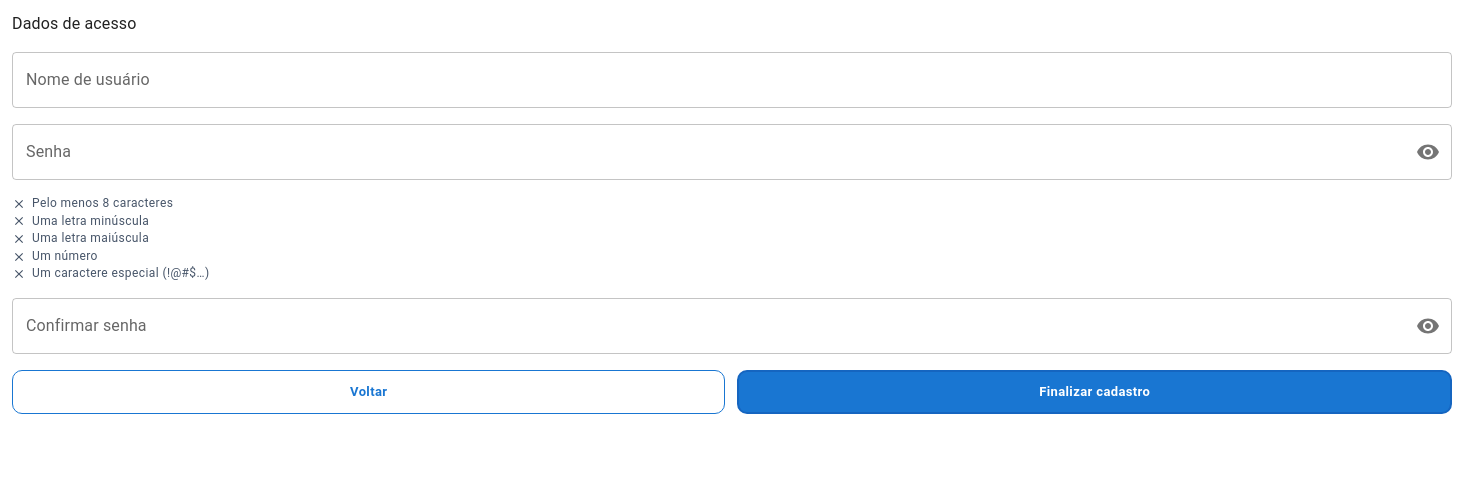
Test: AccessCredentialsStep component › displays validation errors when submitting empty credentials
Click the button "Finalizar cadastro": {"x": 1095, "y": 392} left=738, top=370, right=1452, bottom=414
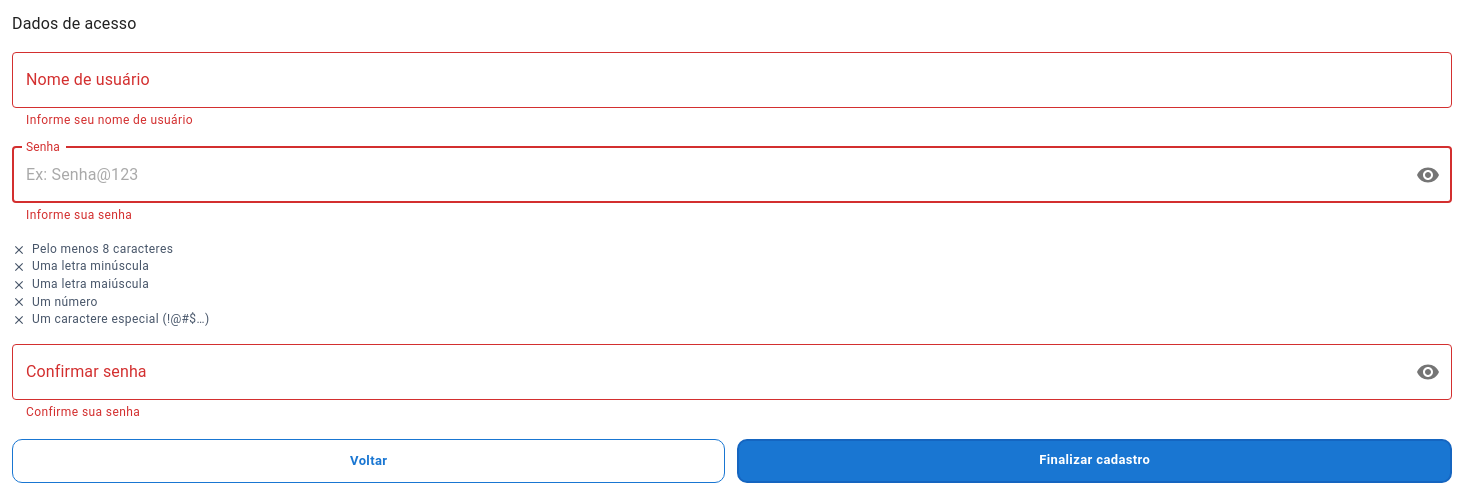
Result: the text "Informe seu nome de usuário" is shown at left=26, top=113, right=193, bottom=127
Result: the text "Informe sua senha" is shown at left=26, top=208, right=132, bottom=222
Result: the text "Confirme sua senha" is shown at left=26, top=405, right=140, bottom=419
